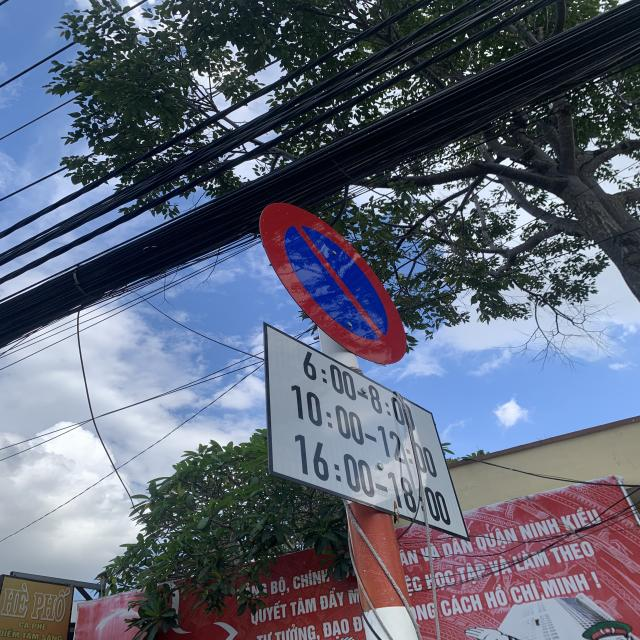Cam_Dau_Xe: (256, 198, 409, 364)
